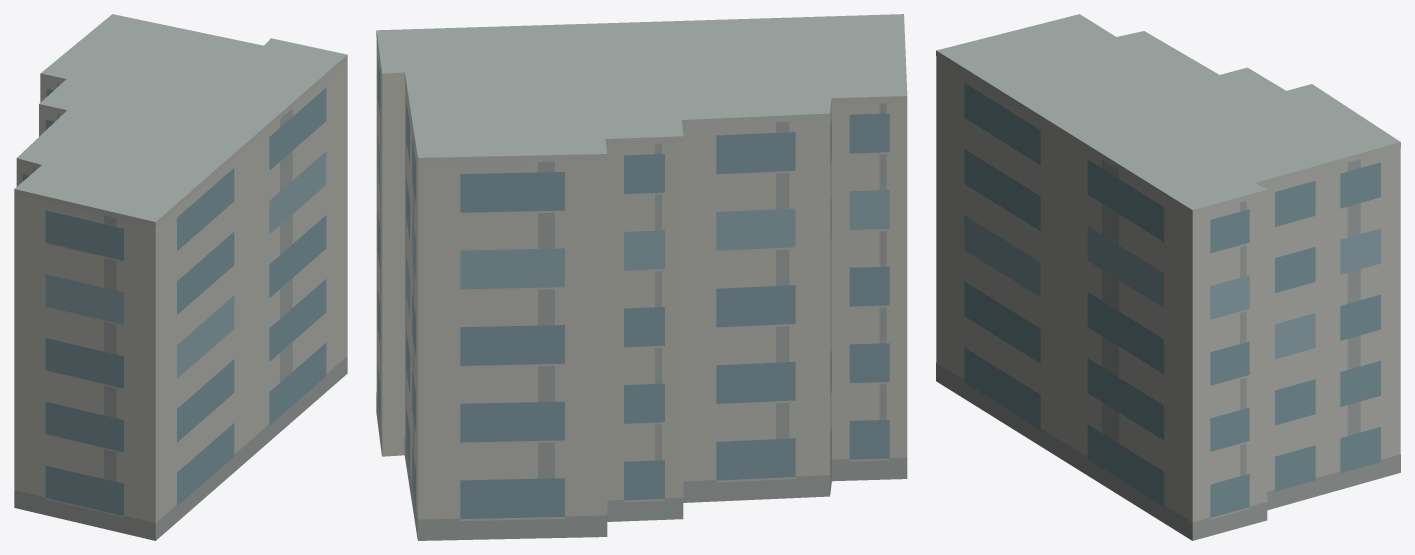
The model's file is survey-upis-32842075.glb.
The picture shows the model from 3 angles, left to right: view 1: azimuth 30°, elevation 25°; view 2: azimuth 150°, elevation 25°; view 3: azimuth 270°, elevation 25°; orthographic projection. The views are drawn at different scales.
Parts seen in each view (by area): view 1: survey-upis-32842075.tmp; view 2: survey-upis-32842075.tmp; view 3: survey-upis-32842075.tmp.
Boxes of the visible parts, x1,y1,x2,y2 form: survey-upis-32842075.tmp: (14,14,347,540); survey-upis-32842075.tmp: (376,14,907,540); survey-upis-32842075.tmp: (936,14,1400,540).
Size of the model in its own units: 18.33 by 14.4 by 18.34.
